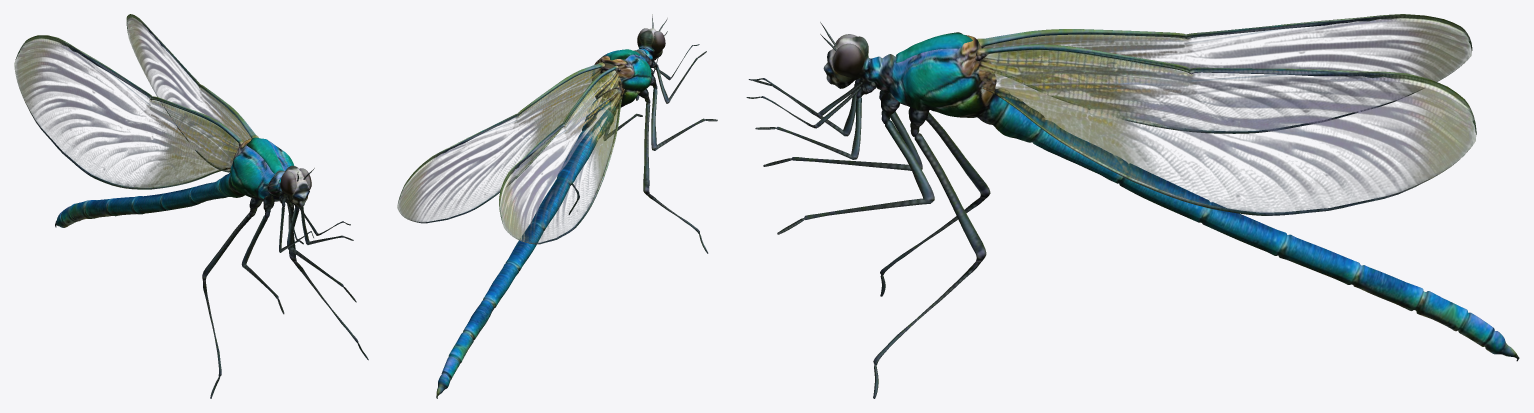
3 renders of one model, left to right at view 1: azimuth 30°, elevation 25°; view 2: azimuth 150°, elevation 25°; view 3: azimuth 270°, elevation 25°, orthographic. The views are drawn at different scales.
Visible parts, largest first — view 1: Material_006-material, Material_001-material, Material_004-material, Material_007-material; view 2: Material_006-material, Material_001-material, Material_004-material, Material_007-material; view 3: Material_006-material, Material_001-material, Material_004-material, Material_007-material.
Boxes of the visible parts, box(x1,y1,x2,y2) form: Material_006-material: box(14, 17, 251, 187); Material_001-material: box(15, 14, 314, 227); Material_004-material: box(202, 193, 368, 398); Material_007-material: box(280, 168, 311, 195); Material_006-material: box(397, 68, 623, 243); Material_001-material: box(398, 14, 667, 398); Material_004-material: box(568, 31, 717, 253); Material_007-material: box(637, 28, 665, 54); Material_006-material: box(978, 18, 1475, 212); Material_001-material: box(820, 14, 1519, 361); Material_004-material: box(746, 77, 990, 398); Material_007-material: box(832, 34, 864, 77).
Size of what is drawn, in the model's own units: 1.56 by 2.29 by 4.78.
Materials: 4 (4 with a texture image).
